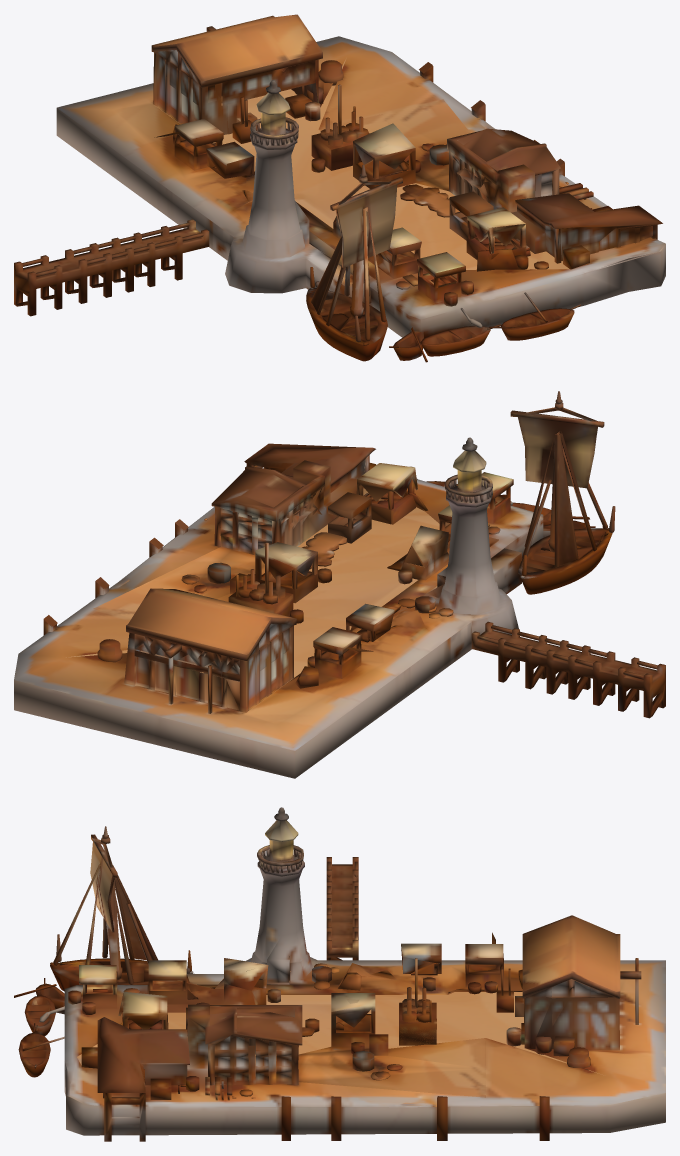
File: dock.fbx
3 renders of one model, top to bottom at view 1: azimuth 30°, elevation 25°; view 2: azimuth 150°, elevation 25°; view 3: azimuth 270°, elevation 25°, orthographic. The views are drawn at different scales.
Parts seen in each view (by area): view 1: texture_pbr_v128; view 2: texture_pbr_v128; view 3: texture_pbr_v128.
Boxes of the visible parts, x1,y1,x2,y2 form: texture_pbr_v128: (14,14,665,362); texture_pbr_v128: (14,391,665,778); texture_pbr_v128: (14,807,665,1141).
Size of the model in its own units: 170 by 62.63 by 190.
Materials: 1 (1 with a texture image).
